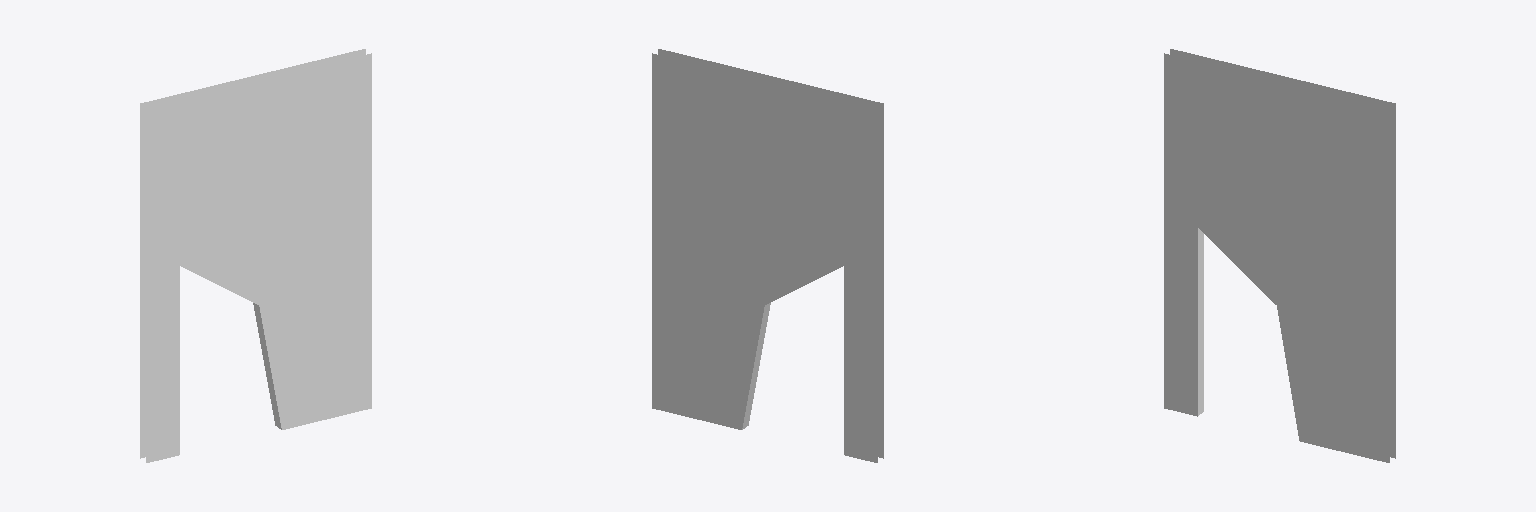
The model's file is Shattered_2.obj.
3 views of the same model, side by side, from view 1: azimuth 30°, elevation 25°; view 2: azimuth 150°, elevation 25°; view 3: azimuth 330°, elevation 25° (orthographic).
Parts seen in each view (by area): view 1: Shattered_2; view 2: Shattered_2; view 3: Shattered_2.
Boxes of the visible parts, <box> form: Shattered_2: <box>140,49,371,462</box>; Shattered_2: <box>652,49,883,462</box>; Shattered_2: <box>1164,49,1395,462</box>.
Size of the model in its own units: 20 by 30 by 1.